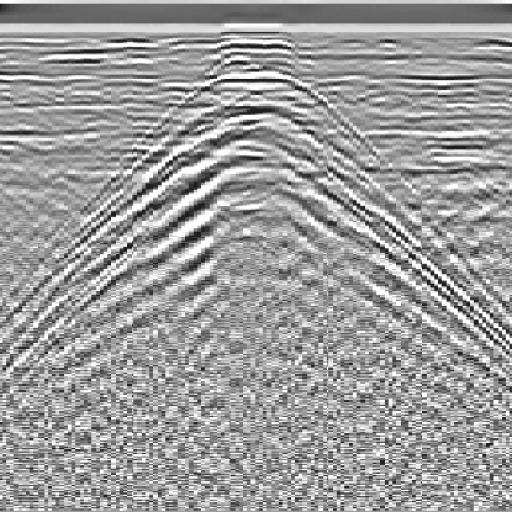metalic: (44, 37, 466, 363)
